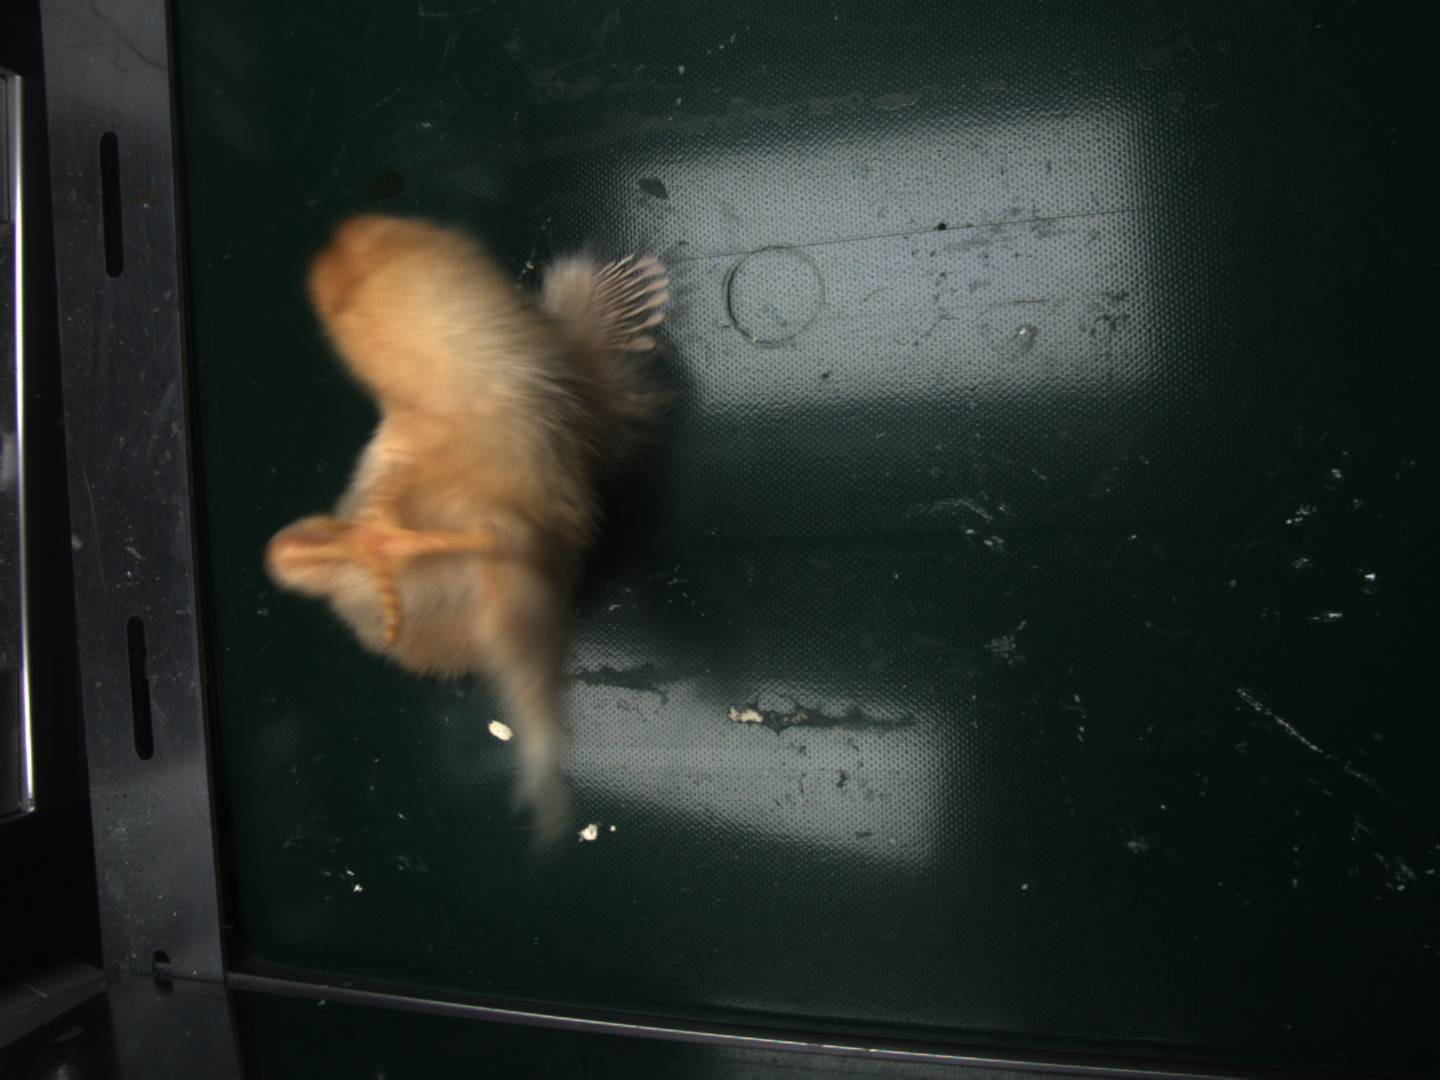female: (596, 253, 676, 343)
